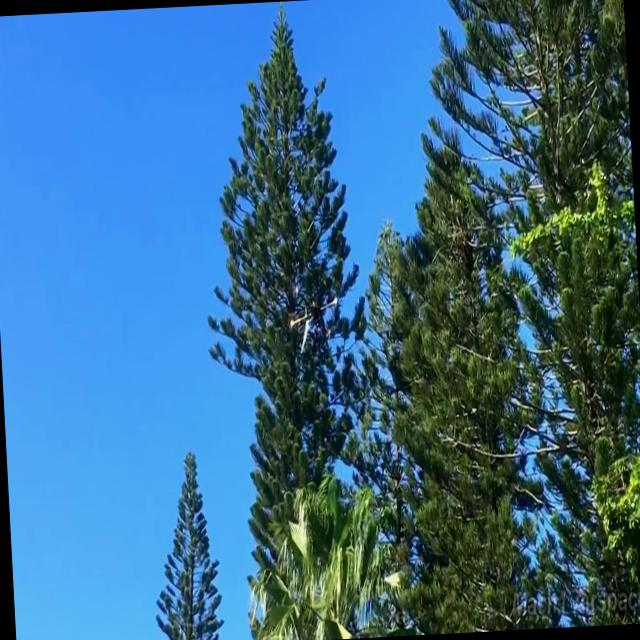drone: (284, 276, 344, 358)
